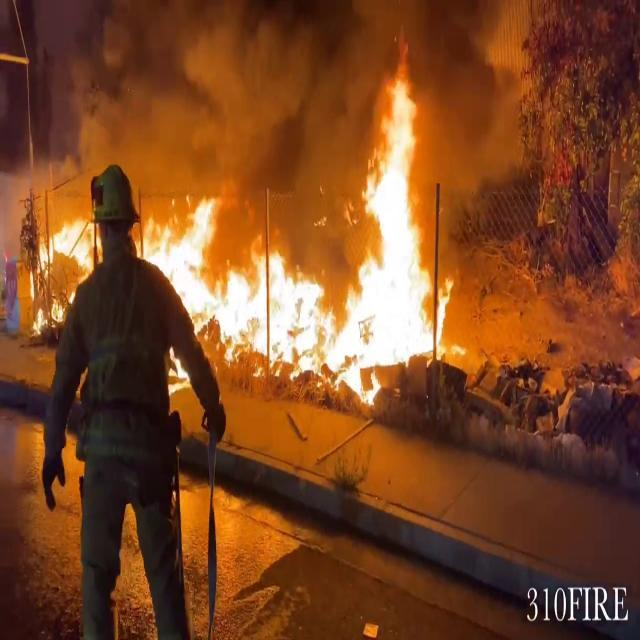Fire: (142, 56, 466, 401), (27, 198, 101, 330)
Smoke: (19, 1, 344, 180)
